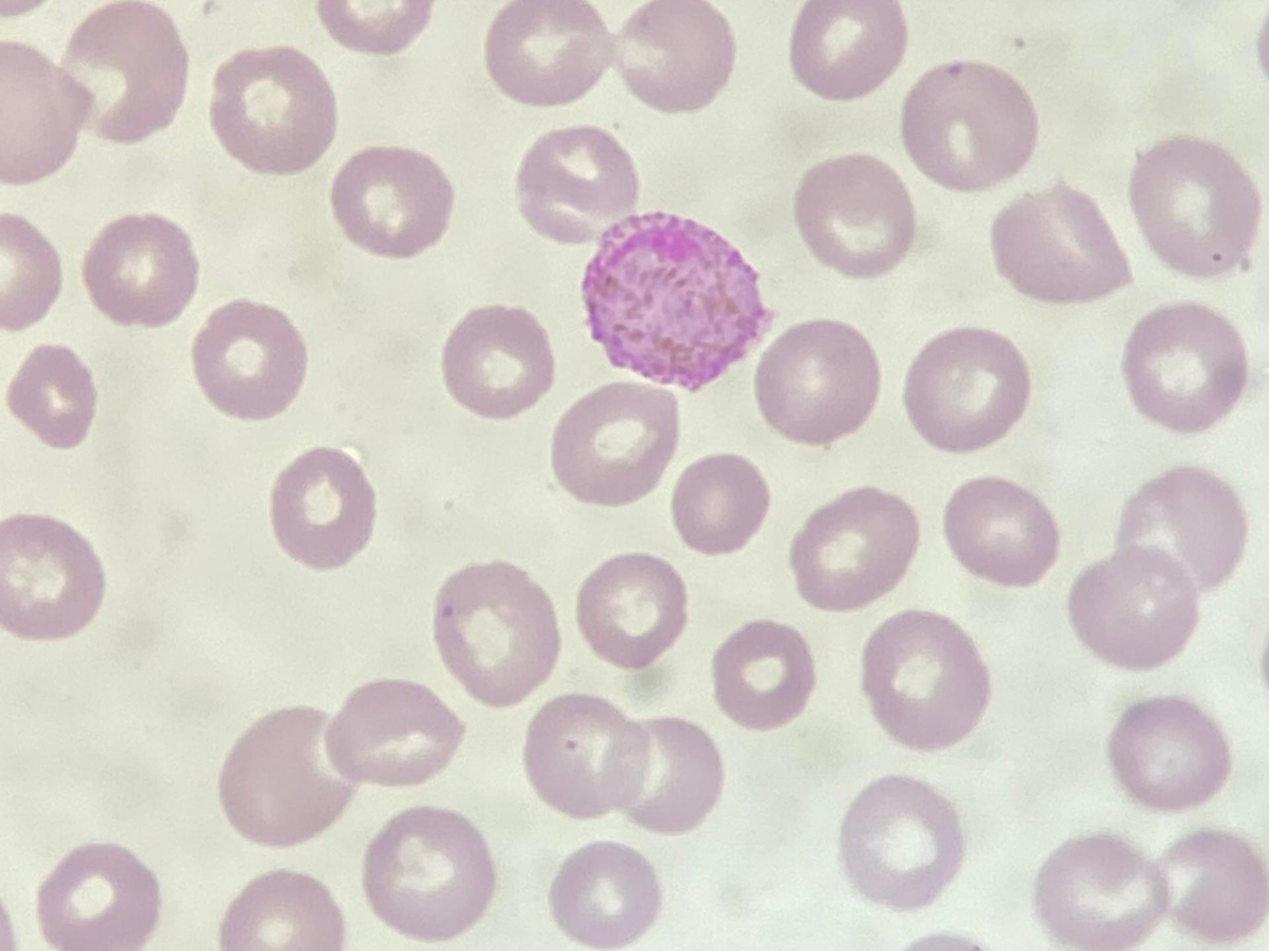Infected: (582, 213, 769, 387)
Uninfected: (903, 58, 1041, 195), (218, 708, 354, 847), (1130, 133, 1260, 276), (432, 564, 560, 703), (63, 3, 190, 143), (1064, 547, 1200, 675), (363, 807, 495, 938), (903, 322, 1031, 456), (862, 611, 988, 747), (839, 778, 964, 911), (1121, 468, 1246, 600), (991, 186, 1135, 299), (523, 694, 653, 819), (1126, 307, 1248, 436), (798, 153, 921, 280), (326, 678, 464, 791), (210, 47, 334, 172), (791, 488, 918, 610), (549, 383, 677, 504), (755, 322, 876, 443), (1034, 835, 1162, 946), (516, 124, 638, 237), (192, 301, 306, 419), (1108, 697, 1227, 810), (331, 145, 451, 257), (943, 474, 1062, 586), (269, 447, 375, 568), (0, 515, 104, 637), (85, 213, 198, 325), (441, 305, 553, 418), (621, 0, 736, 110), (36, 844, 157, 948), (486, 1, 608, 104), (576, 554, 685, 668), (791, 0, 908, 104), (1157, 831, 1263, 941), (711, 620, 816, 731), (549, 842, 660, 947), (623, 719, 719, 833), (672, 453, 768, 553), (7, 342, 96, 449)
